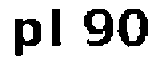0: (117, 6, 152, 52)
9: (81, 6, 116, 51)
l: (47, 1, 70, 49)
p: (11, 16, 43, 60)
